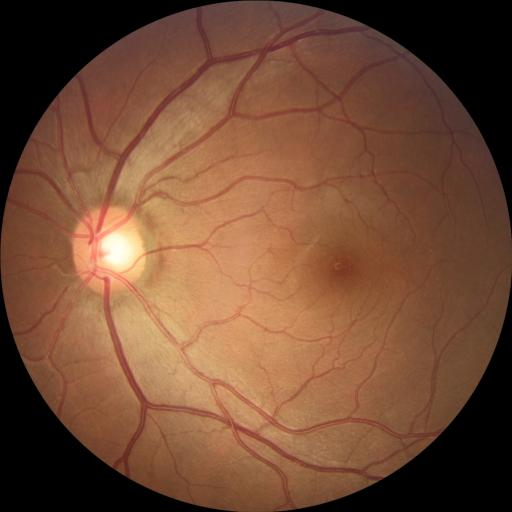Optic Cup: (96, 229, 134, 269)
Optic Disc: (71, 205, 146, 294)
